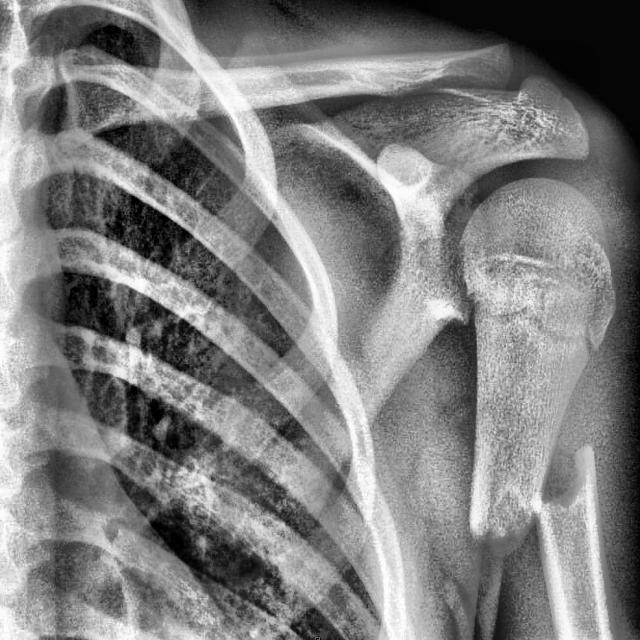line: (472, 306, 596, 354)
messed_up_angle: (457, 404, 620, 559)
